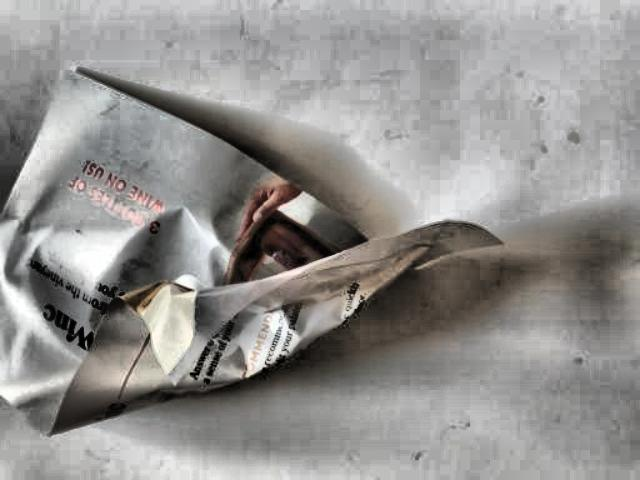Paper: (0, 68, 499, 436)
